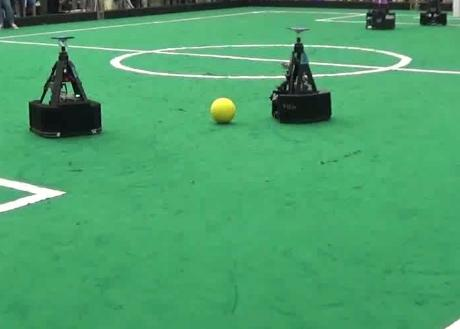robot: (26, 34, 107, 139), (265, 24, 335, 124)
